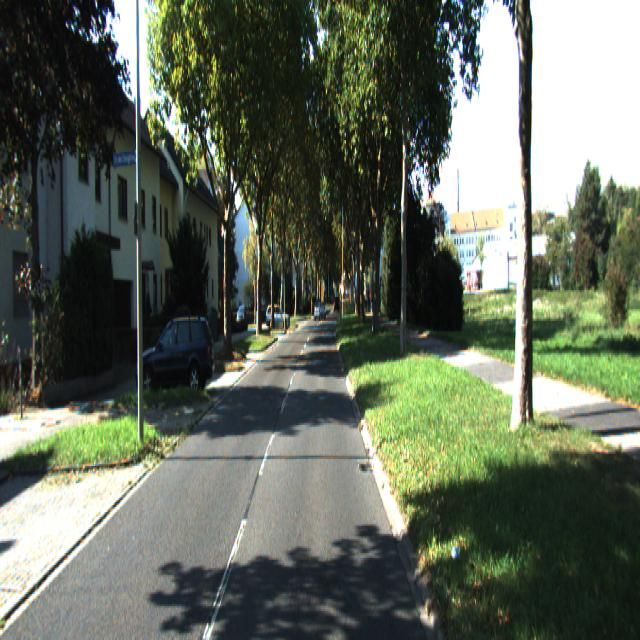Car: (134, 316, 216, 404), (264, 306, 290, 332)
DontCare: (310, 274, 342, 327), (230, 288, 251, 333)
